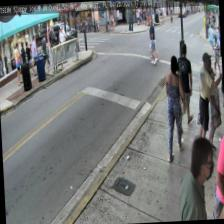person: (162, 55, 188, 160), (174, 43, 194, 124)
